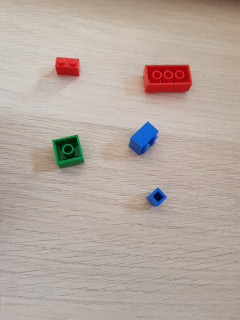1x1 blue: (147, 187, 167, 209)
1x2 red: (55, 55, 80, 78)
2x2 blue: (128, 122, 159, 155)
2x2 green: (52, 135, 86, 169)
2x4 red: (143, 64, 194, 93)
